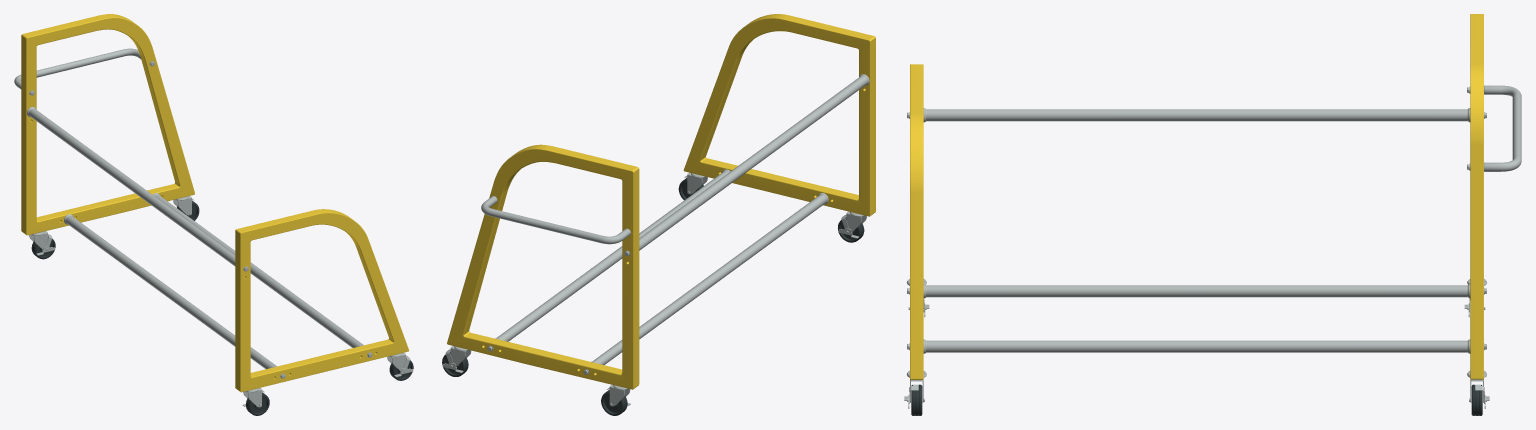
Rendered from storage_tire_rack_c01.glb.
3 renders of one model, left to right at view 1: azimuth 30°, elevation 25°; view 2: azimuth 150°, elevation 25°; view 3: azimuth 270°, elevation 25°, orthographic. The views are drawn at different scales.
Bounding box in the file's own units: 0.5785 × 0.7191 × 1.36.
